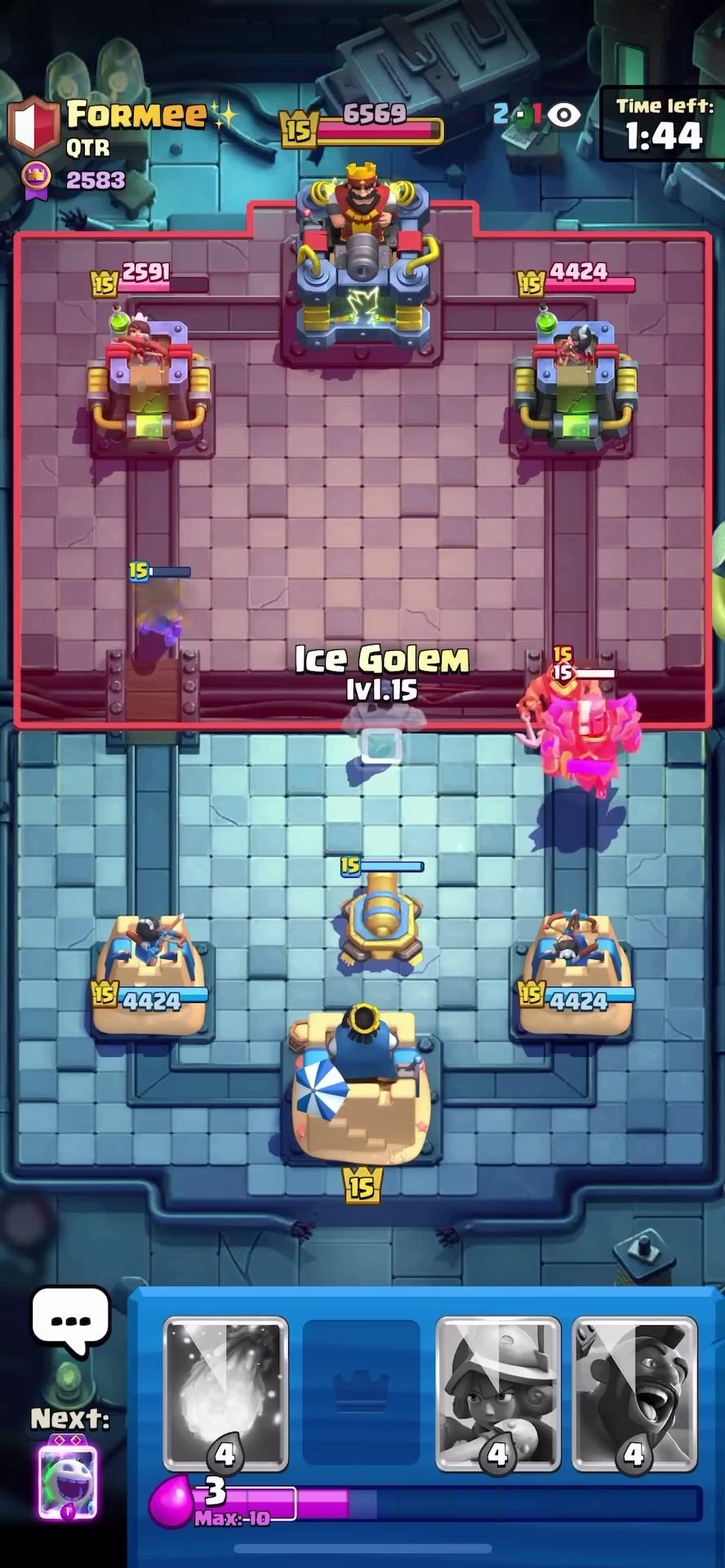cannon: (325, 845, 427, 980)
musketeer: (139, 568, 192, 643)
